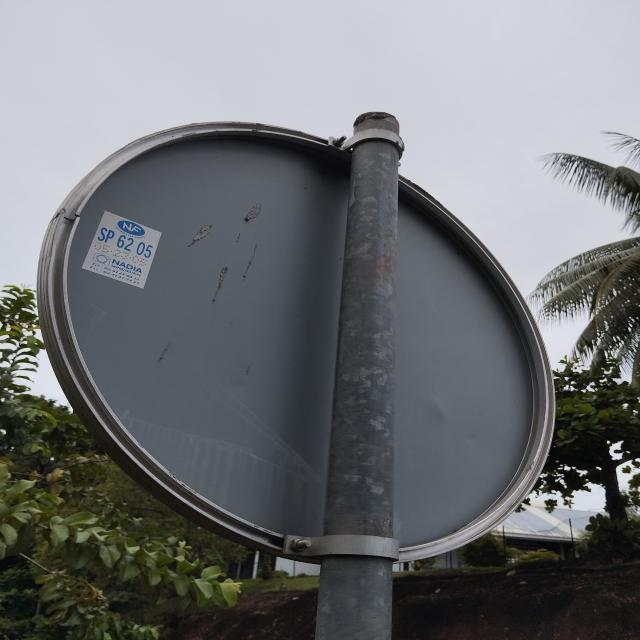Panneau: (46, 118, 554, 559)
